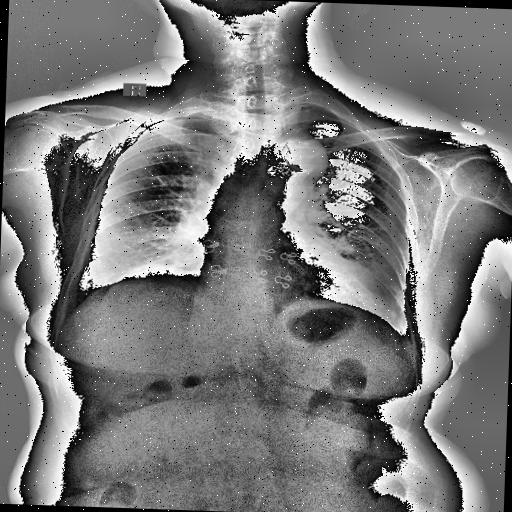0- Aortic enlargement: (260, 136, 330, 190), (268, 136, 328, 188), (276, 136, 327, 176)
3- Cardiomegaly: (196, 246, 380, 328), (202, 246, 388, 314), (191, 251, 388, 312)
